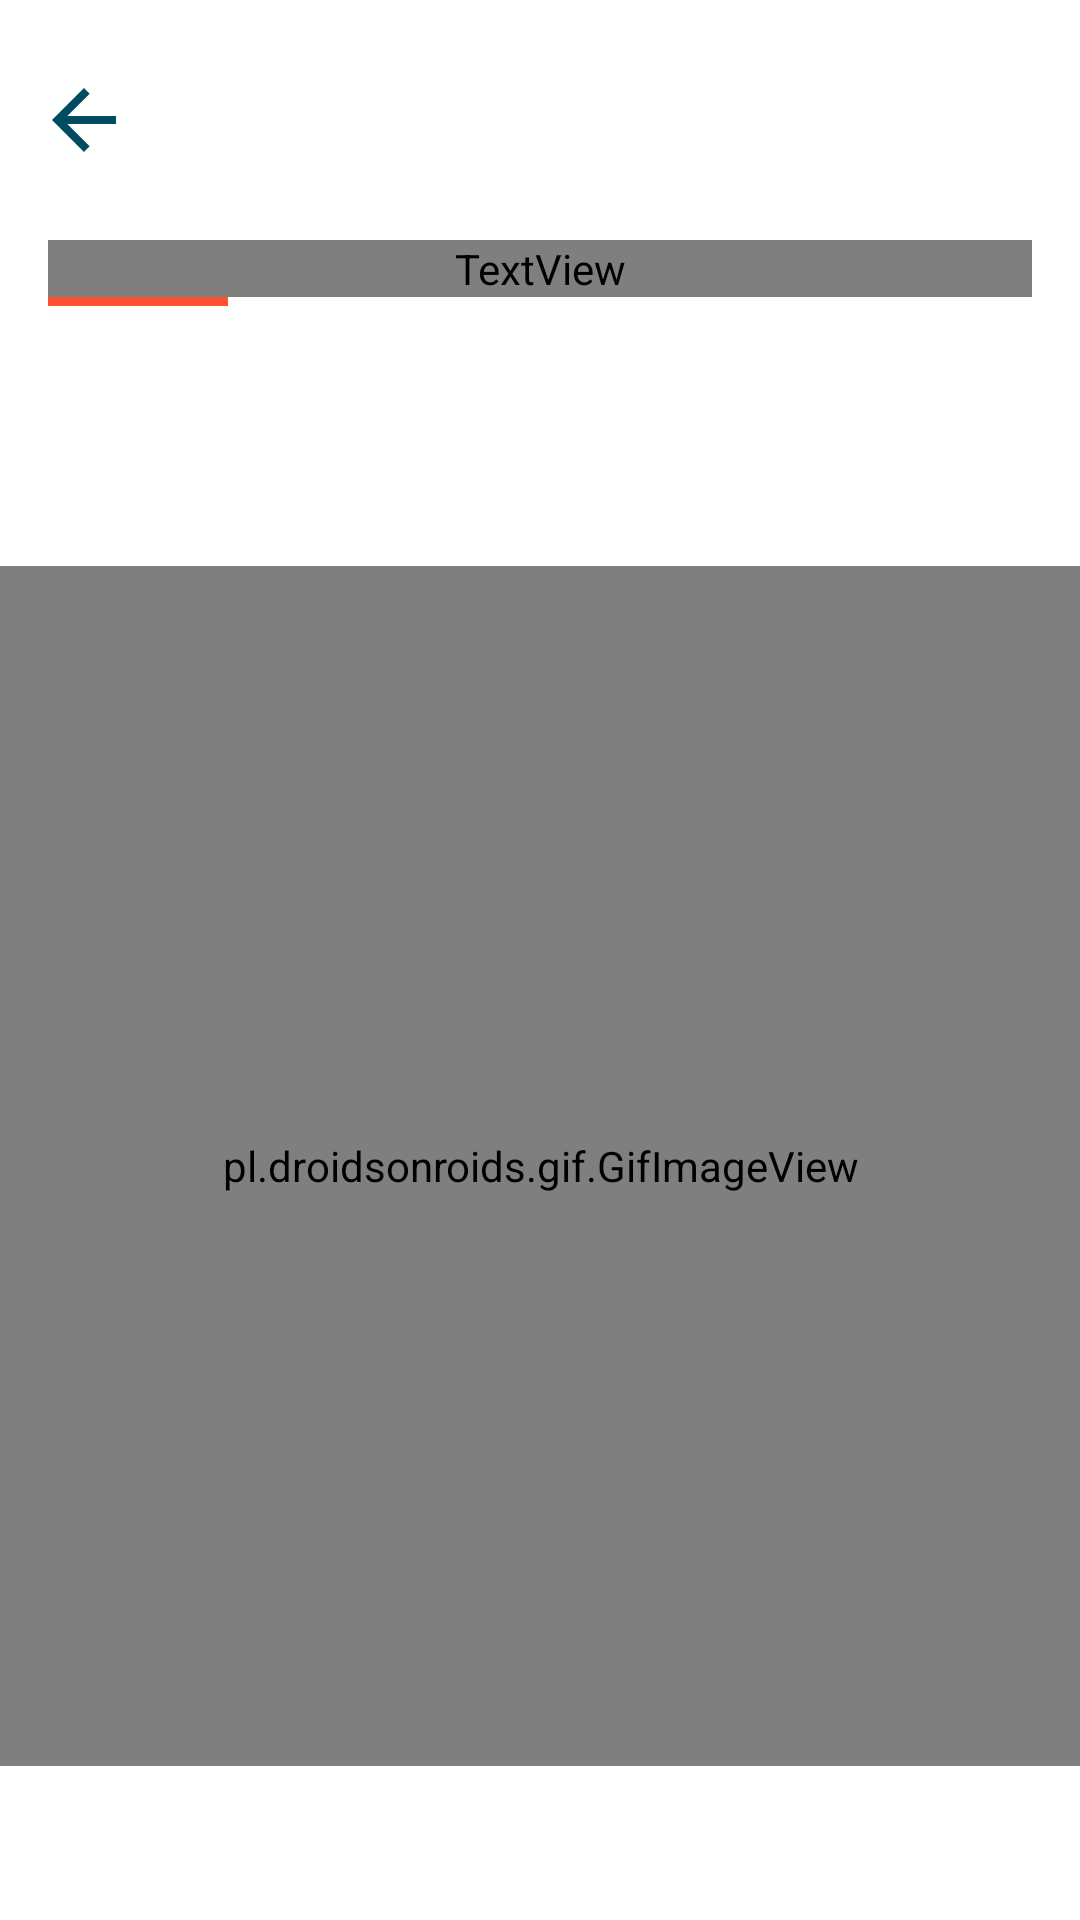

Locate icon controls on the screen. Image size 1080px x 1920px, boxes as bbox=(x1, y1, x2, y2).
arrow back: bbox=(52, 88, 116, 152)
